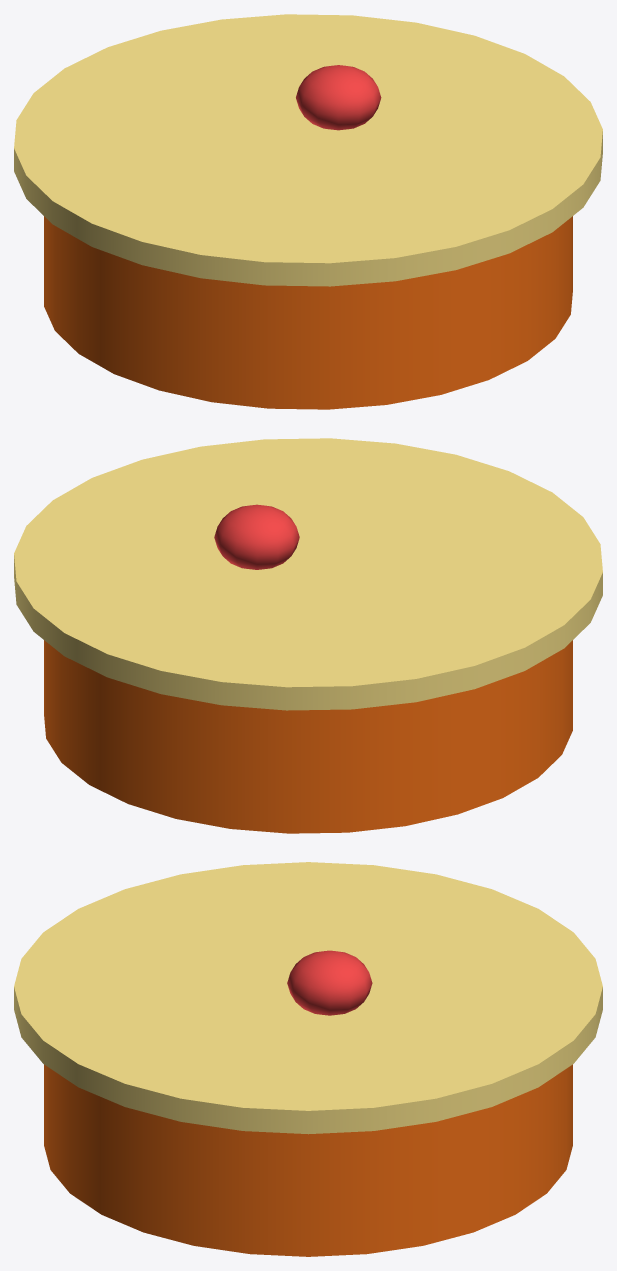
Rendered from toy_barn_pudding_cup.glb.
3 renders of one model, top to bottom at view 1: azimuth 30°, elevation 25°; view 2: azimuth 150°, elevation 25°; view 3: azimuth 270°, elevation 25°, orthographic.
Parts seen in each view (by area): view 1: solid_2, solid_1, solid_4; view 2: solid_2, solid_1, solid_4; view 3: solid_2, solid_1, solid_4.
Part boxes in pixels (x1=…): solid_2: x1=14, y1=14, x2=602, y2=286; solid_1: x1=44, y1=216, x2=572, y2=409; solid_4: x1=296, y1=65, x2=381, y2=130; solid_2: x1=14, y1=438, x2=602, y2=710; solid_1: x1=44, y1=640, x2=572, y2=833; solid_4: x1=214, y1=504, x2=299, y2=569; solid_2: x1=14, y1=862, x2=602, y2=1134; solid_1: x1=44, y1=1064, x2=572, y2=1256; solid_4: x1=287, y1=950, x2=372, y2=1015.
Size of the model in its own units: 2.76 by 1.08 by 2.76.
